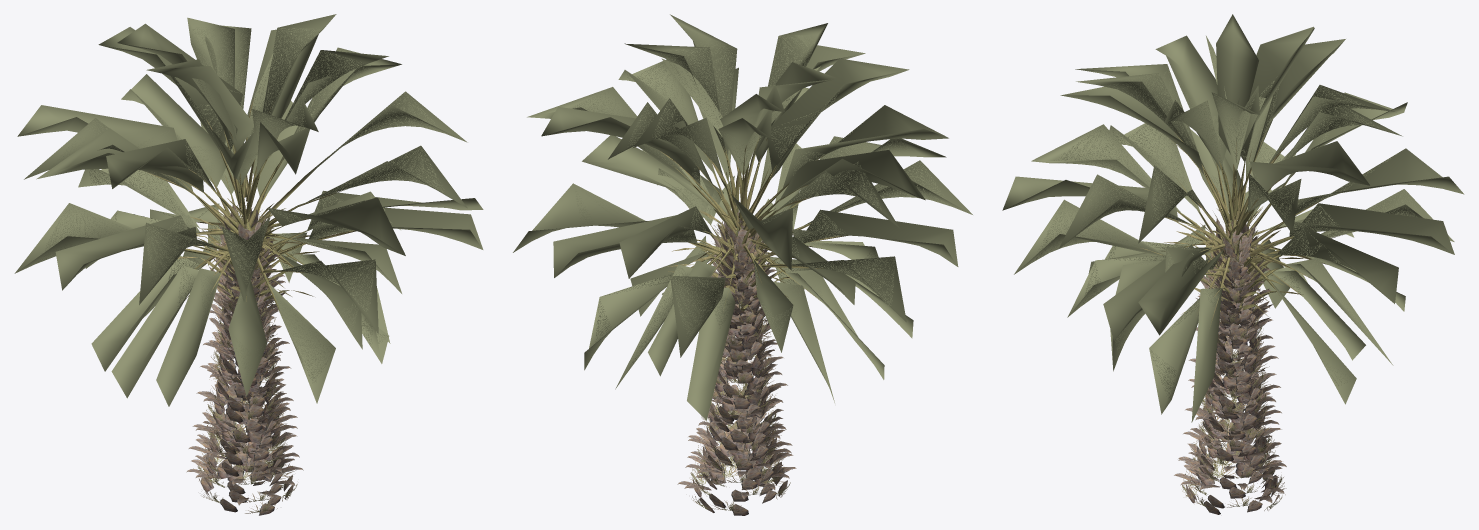
Rendered from palm-fan.lod0.glb.
3 renders of one model, left to right at view 1: azimuth 30°, elevation 25°; view 2: azimuth 150°, elevation 25°; view 3: azimuth 270°, elevation 25°, orthographic. The views are drawn at different scales.
Parts seen in each view (by area): view 1: _1_HP_Palm3_Trunk_0, _1_HP_Palm3_Leaf_2_0; view 2: _1_HP_Palm3_Trunk_0, _1_HP_Palm3_Leaf_2_0; view 3: _1_HP_Palm3_Trunk_0, _1_HP_Palm3_Leaf_2_0.
Boxes of the visible parts, x1,y1,x2,y2 form: _1_HP_Palm3_Trunk_0: (14, 14, 483, 406); _1_HP_Palm3_Leaf_2_0: (147, 98, 356, 515); _1_HP_Palm3_Trunk_0: (513, 14, 972, 420); _1_HP_Palm3_Leaf_2_0: (660, 116, 852, 515); _1_HP_Palm3_Trunk_0: (1002, 14, 1464, 422); _1_HP_Palm3_Leaf_2_0: (1140, 127, 1342, 514).
Size of the model in its own units: 9.08 by 9.91 by 9.31.
Materials: 2 (1 with a texture image).
